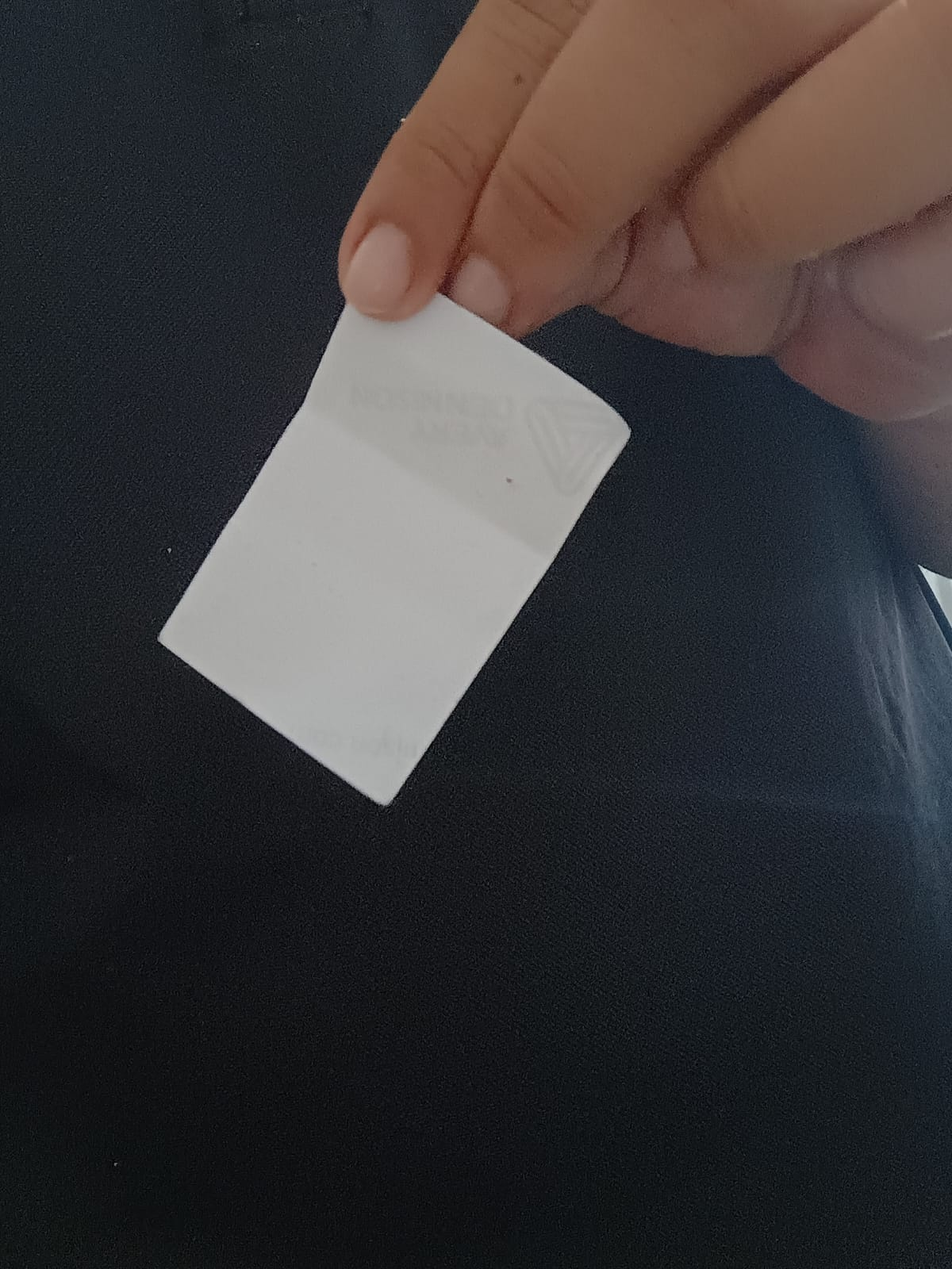Papel: (158, 288, 632, 814)
